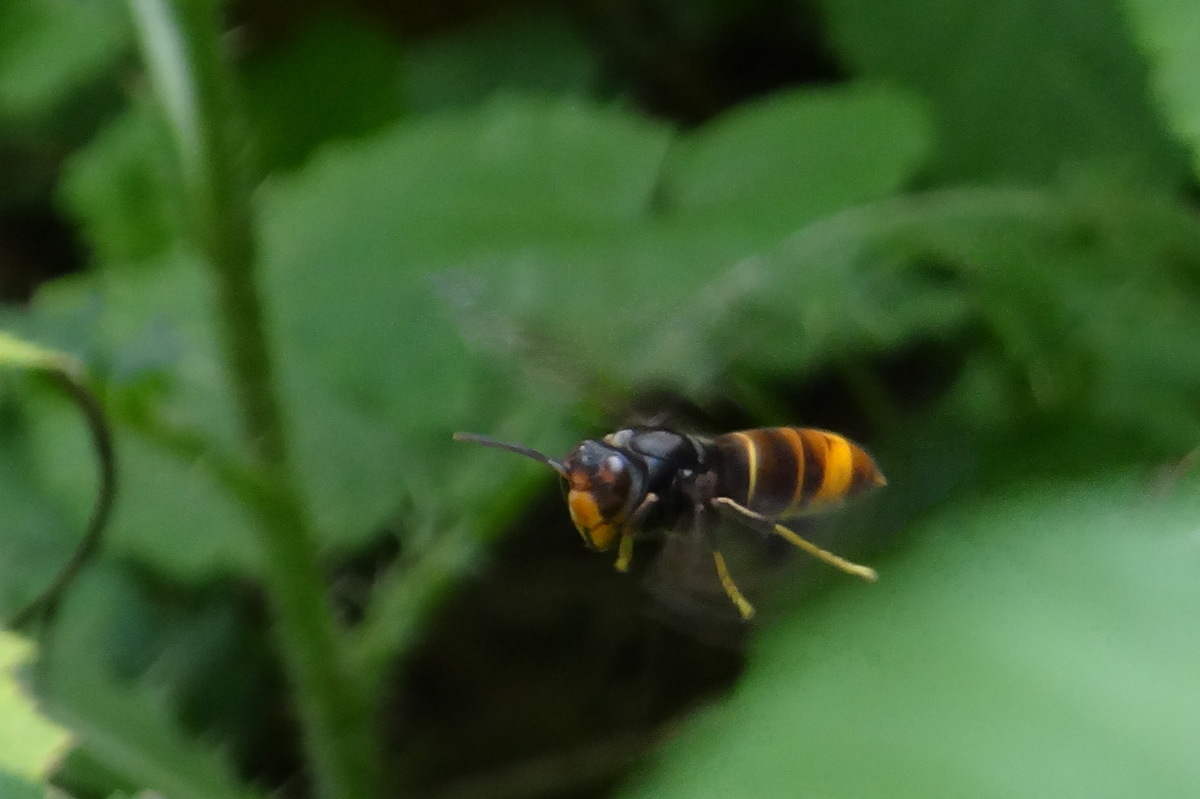hornet: (525, 379, 897, 607)
